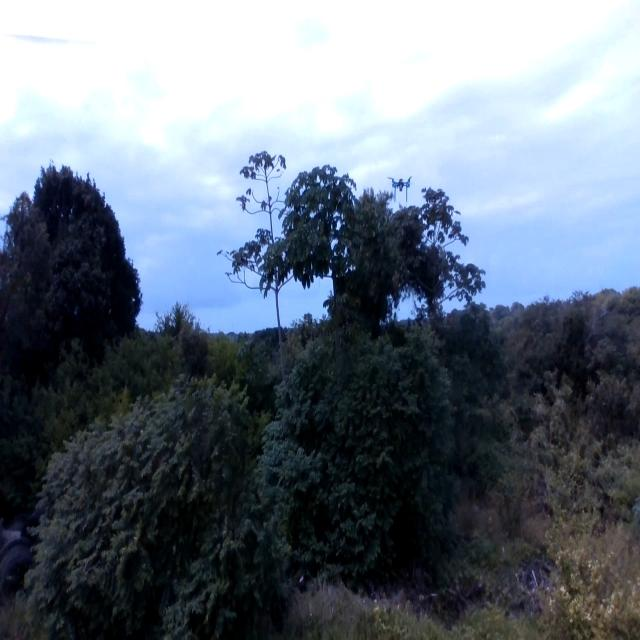-uav-: (388, 170, 413, 206)
